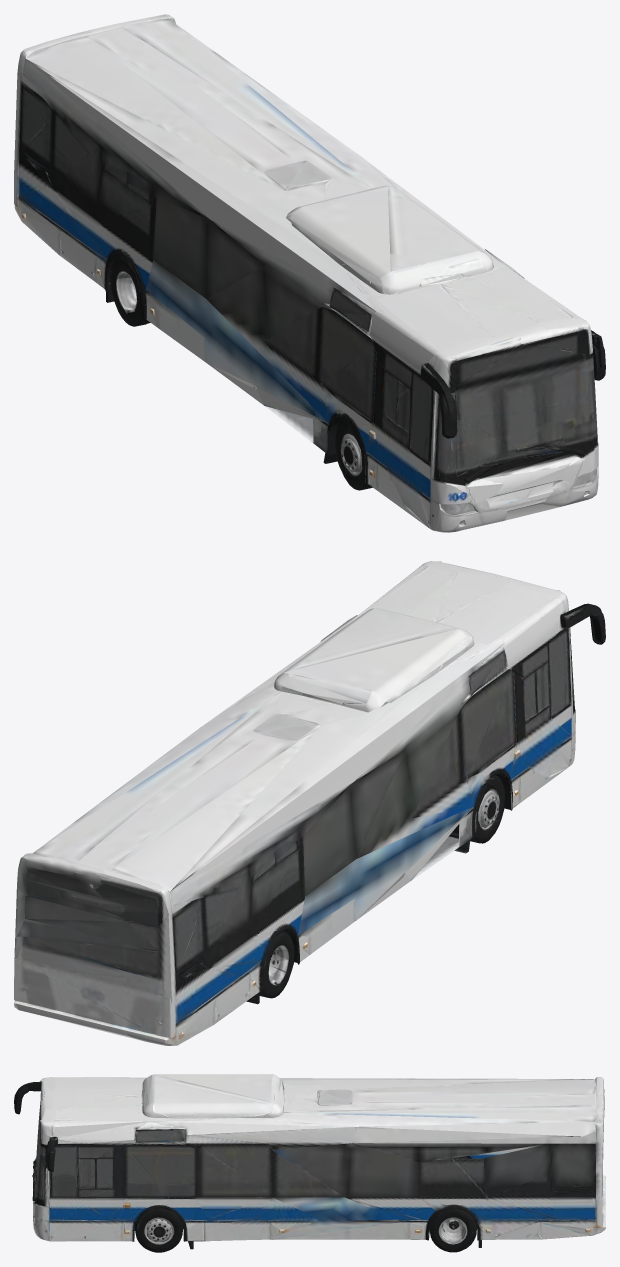
File: city_bus.glb
3 renders of one model, top to bottom at view 1: azimuth 30°, elevation 25°; view 2: azimuth 150°, elevation 25°; view 3: azimuth 270°, elevation 25°, orthographic. The views are drawn at different scales.
Visible parts, largest first — view 1: Mesh_0; view 2: Mesh_0; view 3: Mesh_0.
Part boxes in pixels (box(x1,y1,x2,y2)): Mesh_0: box(14, 14, 605, 532); Mesh_0: box(14, 561, 605, 1045); Mesh_0: box(14, 1074, 605, 1252).
Bounding box in the file's own units: 2.89 × 3.12 × 12.
Materials: 1 (1 with a texture image).
